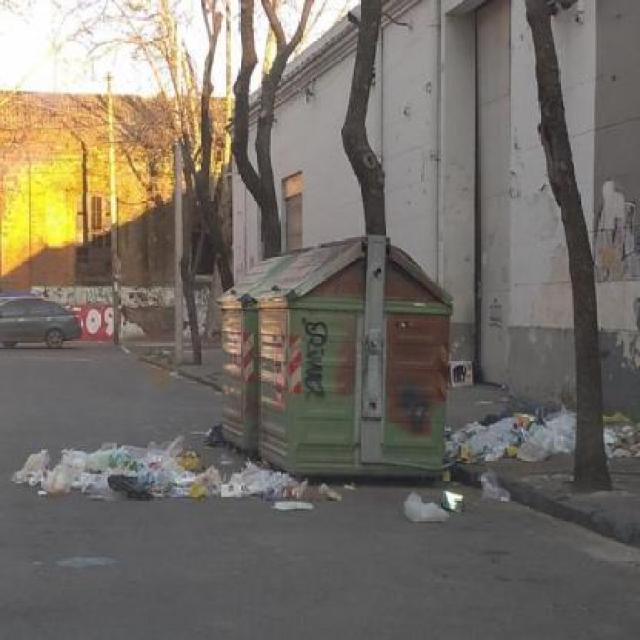garbage: (14, 411, 325, 518), (456, 351, 635, 470), (396, 492, 493, 540)
